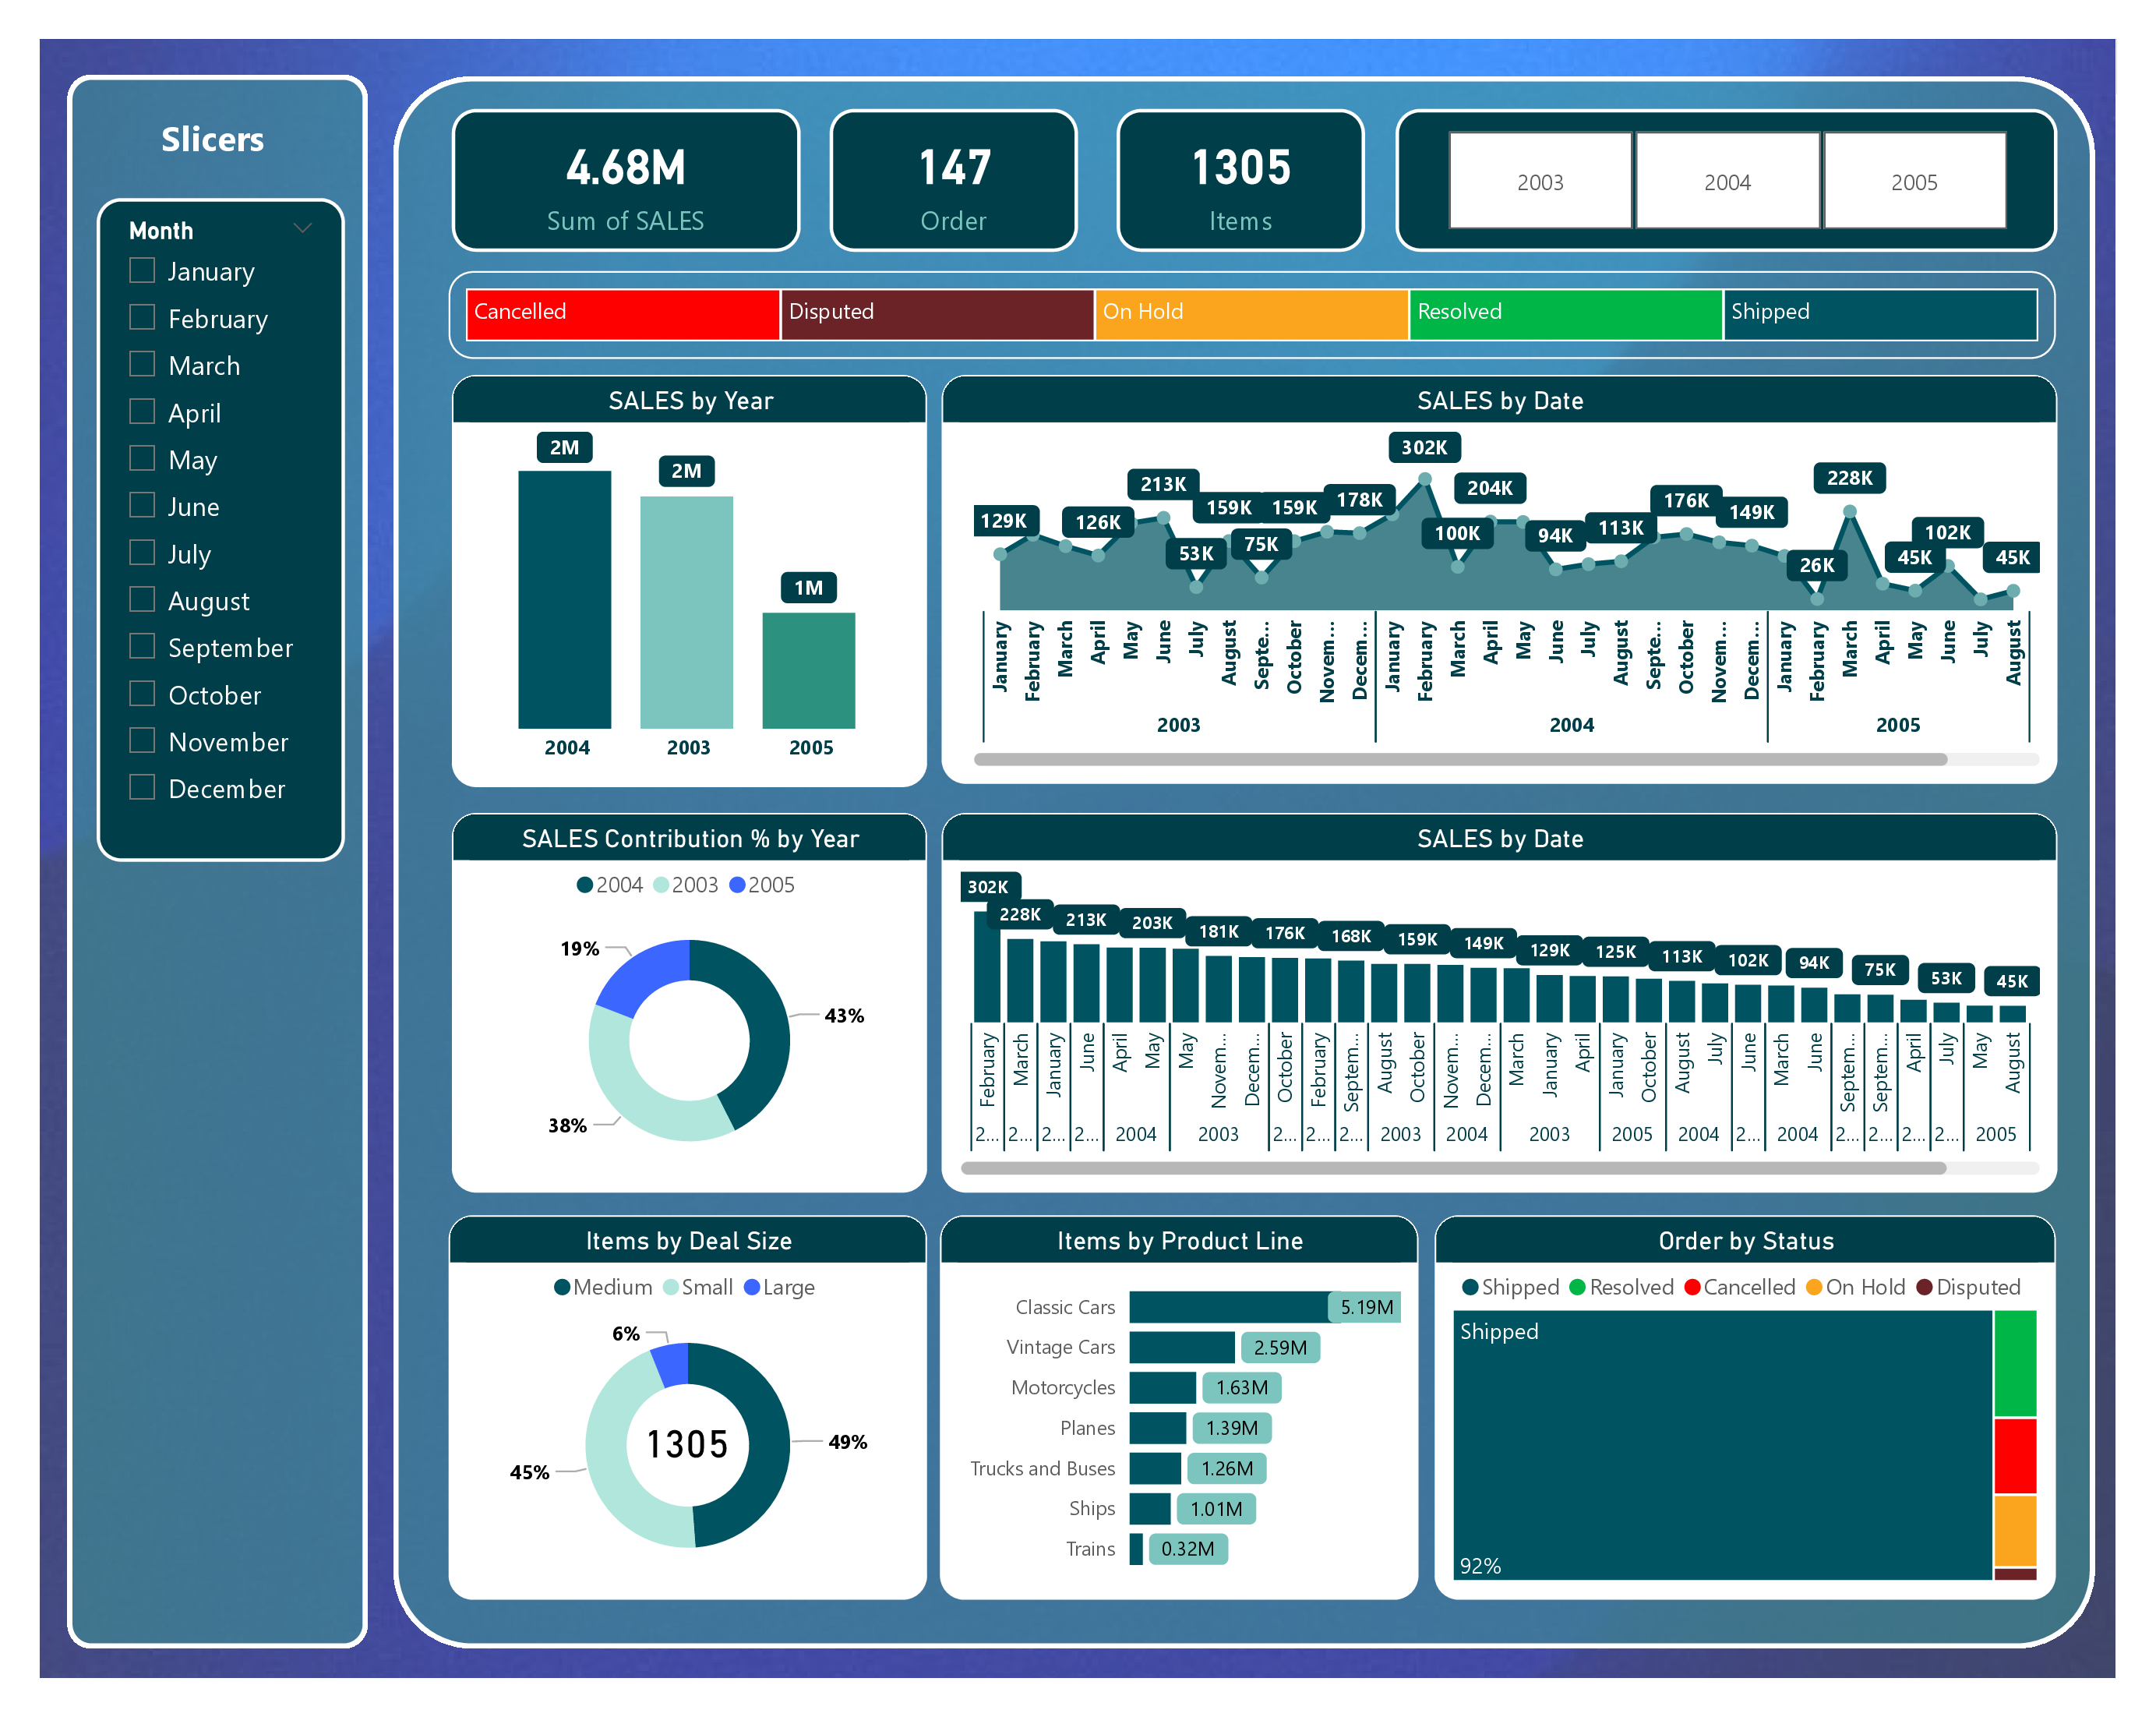

The page's visual inventory and layout, read from the dashboard file:
{"tool":"powerbi","page":{"name":"Page 1","canvas":[1280,2500],"ordinal":0},"visuals":[{"type":"shape","box":[218.3,23.3,1048.3,968.3],"z":0},{"type":"shape","box":[16.7,21.7,185,970],"z":1000},{"type":"textbox","box":[70,41.4,75.7,45.7],"z":2000},{"type":"areaChart","title":"SALES by Date","fields":{"Category":["Sales Data.ORDERDATE.Variation.Date Hierarchy.Year","Sales Data.ORDERDATE.Variation.Date Hierarchy.Month","Sales Data.ORDERDATE.Variation.Date Hierarchy.Day"],"Y":["Sum(Sales Data.SALES)"]},"box":[555.7,206.5,688.6,252.9],"z":3000},{"type":"card","fields":{"Values":["Sum(Sales Data.SALES)"]},"box":[254.3,42.9,214.3,88.6],"z":4000},{"type":"card","fields":{"Values":["Count(Sales Data.ORDERNUMBER)"]},"box":[487.1,42.9,152.9,88.6],"z":5000},{"type":"card","fields":{"Values":["CountNonNull(Sales Data.ORDERNUMBER)"]},"box":[664.3,42.9,152.9,88.6],"z":6000},{"type":"slicer","fields":{"Values":["Sales Data.ORDERDATE.Variation.Date Hierarchy.Year"]},"box":[835.7,42.9,408.6,88.6],"z":7000},{"type":"columnChart","title":"SALES by Year","fields":{"Category":["Sales Data.ORDERDATE.Variation.Date Hierarchy.Year"],"Y":["Sum(Sales Data.SALES)"]},"box":[254.3,206.5,292.9,254.3],"z":8000},{"type":"donutChart","title":"SALES Contribution % by Year","fields":{"Category":["Sales Data.ORDERDATE.Variation.Date Hierarchy.Year"],"Y":["Sum(Sales Data.SALES)"]},"box":[254.3,476.5,292.9,234.3],"z":9000},{"type":"columnChart","title":"SALES by Date","fields":{"Category":["Sales Data.ORDERDATE.Variation.Date Hierarchy.Year","Sales Data.ORDERDATE.Variation.Date Hierarchy.Month"],"Y":["Sum(Sales Data.SALES)"]},"box":[555.7,476.5,688.6,234.3],"z":10000},{"type":"donutChart","title":"Items by Deal Size","fields":{"Category":["Sales Data.DEALSIZE"],"Y":["CountNonNull(Sales Data.ORDERNUMBER)"]},"box":[251.7,725.3,295,236.7],"z":11000},{"type":"card","fields":{"Values":["CountNonNull(Sales Data.ORDERNUMBER)"]},"box":[353.3,831.7,91.7,66.7],"z":12000},{"type":"clusteredBarChart","title":"Items by Product Line","fields":{"Category":["Sales Data.PRODUCTLINE"],"Y":["Sum(Sales Data.ORDERNUMBER)"]},"box":[555,725.3,295,236.7],"z":13000},{"type":"treemap","title":"Order by Status","fields":{"Values":["Sum(Sales Data.ORDERNUMBER)"],"Group":["Sales Data.STATUS"]},"box":[860,725.3,383.3,236.7],"z":14000},{"type":"slicer","fields":{"Values":["Sales Data.ORDERDATE.Variation.Date Hierarchy.Month"]},"box":[35,98.3,153.3,408.3],"z":15000},{"type":"treemap","title":"Order by Status","fields":{"Group":["Sales Data.STATUS"],"Values":["Sales Data.Width"]},"box":[251.7,143.3,991.7,53.3],"z":16000},{"type":"hundredPercentStackedColumnChart","title":"SALES by Date","fields":{"Category":["Sales Data.ORDERDATE.Variation.Date Hierarchy.Year","Sales Data.ORDERDATE.Variation.Date Hierarchy.Month","Sales Data.ORDERDATE.Variation.Date Hierarchy.Day"],"Series":["Sales Data.STATUS"],"Y":["Count(Sales Data.ORDERNUMBER)"]},"box":[563.3,1015,701.7,408.3],"z":17000},{"type":"gauge","title":"Items by Deal Size","fields":{"Y":["Sum(Sales Data.SALES)"]},"box":[146,1014,294,236],"z":18000},{"type":"map","fields":{"Size":["Sum(Sales Data.SALES)"],"Category":["Sales Data.COUNTRY"]},"box":[16.7,1436.7,1248.3,458.3],"z":18001}]}

Visuals, with their boxes on the page's 1280x2500 design canvas (x1, y1, x2, y2). These are canvas units, not pixel positions in the 2156x1717 screenshot, which may show the page scaled, cropped or inside an application window:
shape: bbox(218, 23, 1267, 992)
shape: bbox(17, 22, 202, 992)
textbox: bbox(70, 41, 146, 87)
"SALES by Date" areaChart: bbox(556, 206, 1244, 459)
card - Sum(Sales Data.SALES): bbox(254, 43, 469, 132)
card - Count(Sales Data.ORDERNUMBER): bbox(487, 43, 640, 132)
card - CountNonNull(Sales Data.ORDERNUMBER): bbox(664, 43, 817, 132)
slicer - Sales Data.ORDERDATE.Variation.Date Hierarchy.Year: bbox(836, 43, 1244, 132)
"SALES by Year" columnChart: bbox(254, 206, 547, 461)
"SALES Contribution % by Year" donutChart: bbox(254, 476, 547, 711)
"SALES by Date" columnChart: bbox(556, 476, 1244, 711)
"Items by Deal Size" donutChart: bbox(252, 725, 547, 962)
card - CountNonNull(Sales Data.ORDERNUMBER): bbox(353, 832, 445, 898)
"Items by Product Line" clusteredBarChart: bbox(555, 725, 850, 962)
"Order by Status" treemap: bbox(860, 725, 1243, 962)
slicer - Sales Data.ORDERDATE.Variation.Date Hierarchy.Month: bbox(35, 98, 188, 507)
"Order by Status" treemap: bbox(252, 143, 1243, 197)
"SALES by Date" hundredPercentStackedColumnChart: bbox(563, 1015, 1265, 1423)
"Items by Deal Size" gauge: bbox(146, 1014, 440, 1250)
map - Sum(Sales Data.SALES) x Sales Data.COUNTRY: bbox(17, 1437, 1265, 1895)
